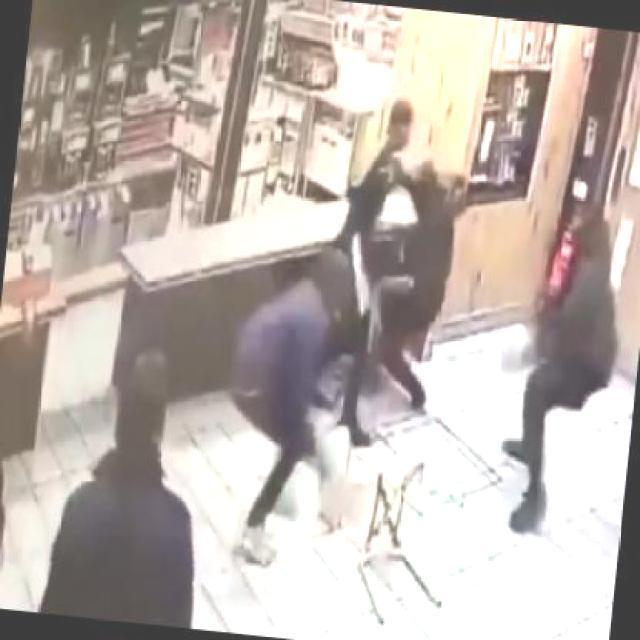fight: (324, 83, 468, 422)
